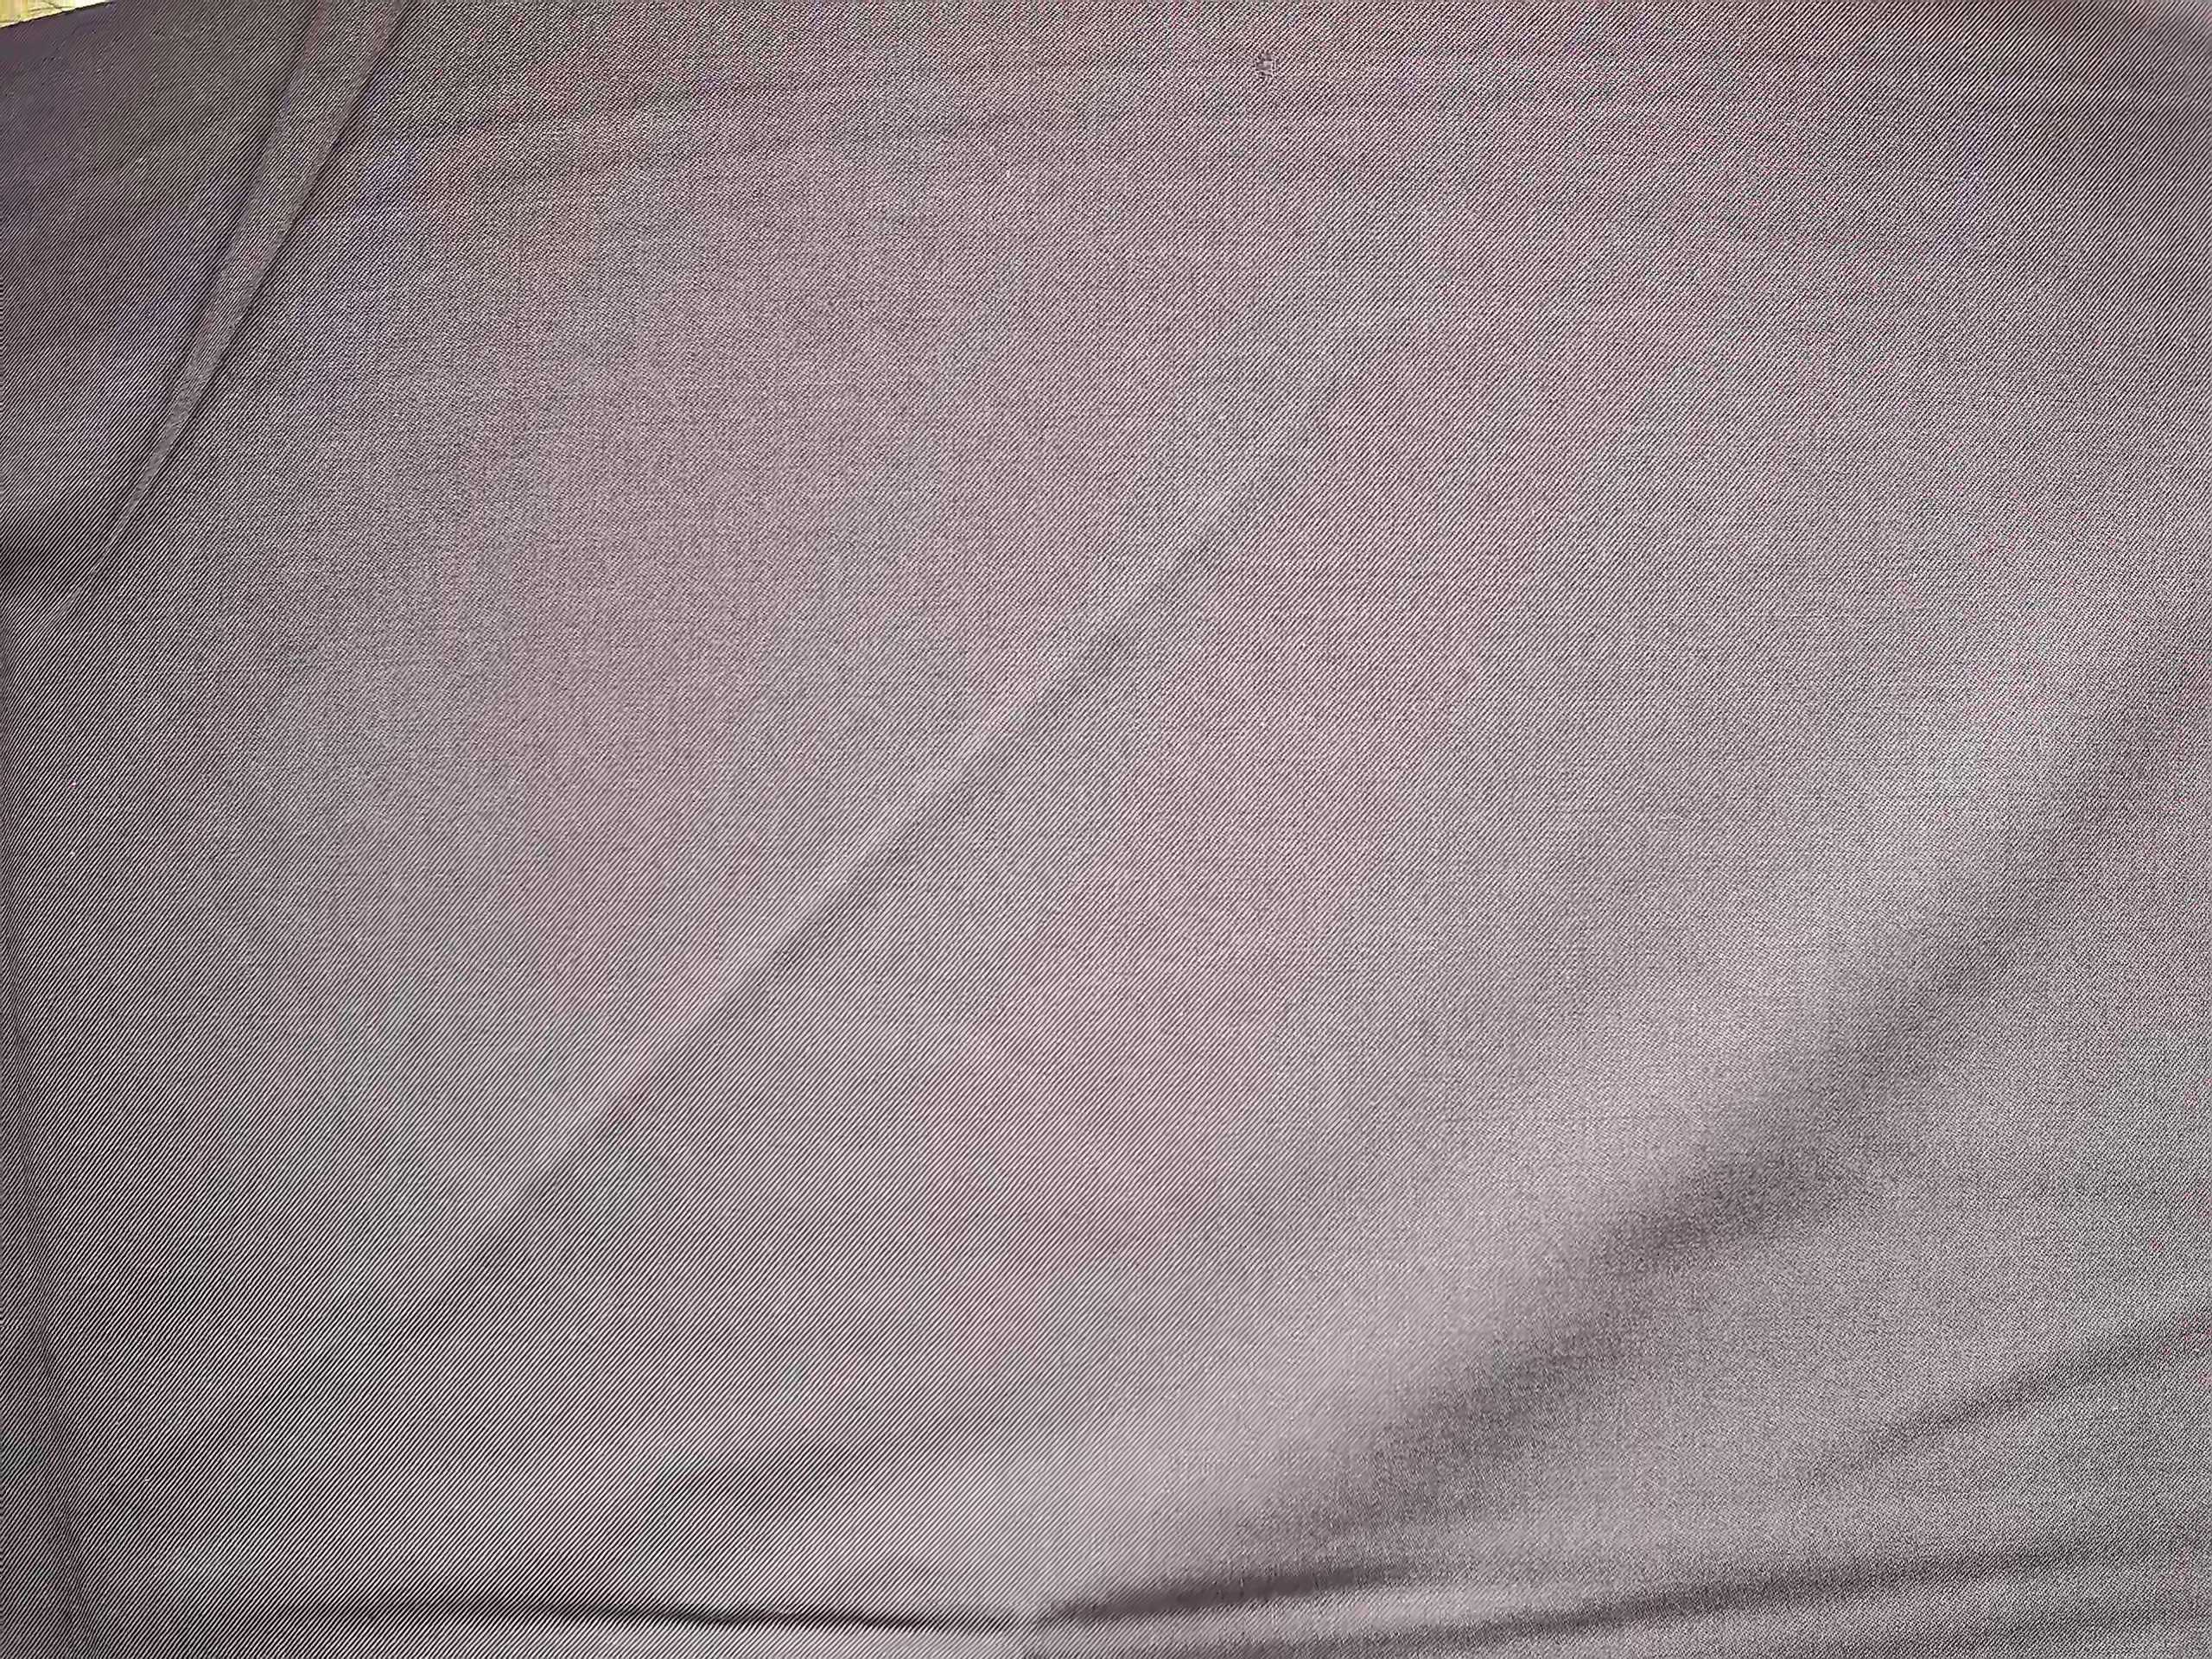puncture-hole: (1238, 38, 1292, 101)
